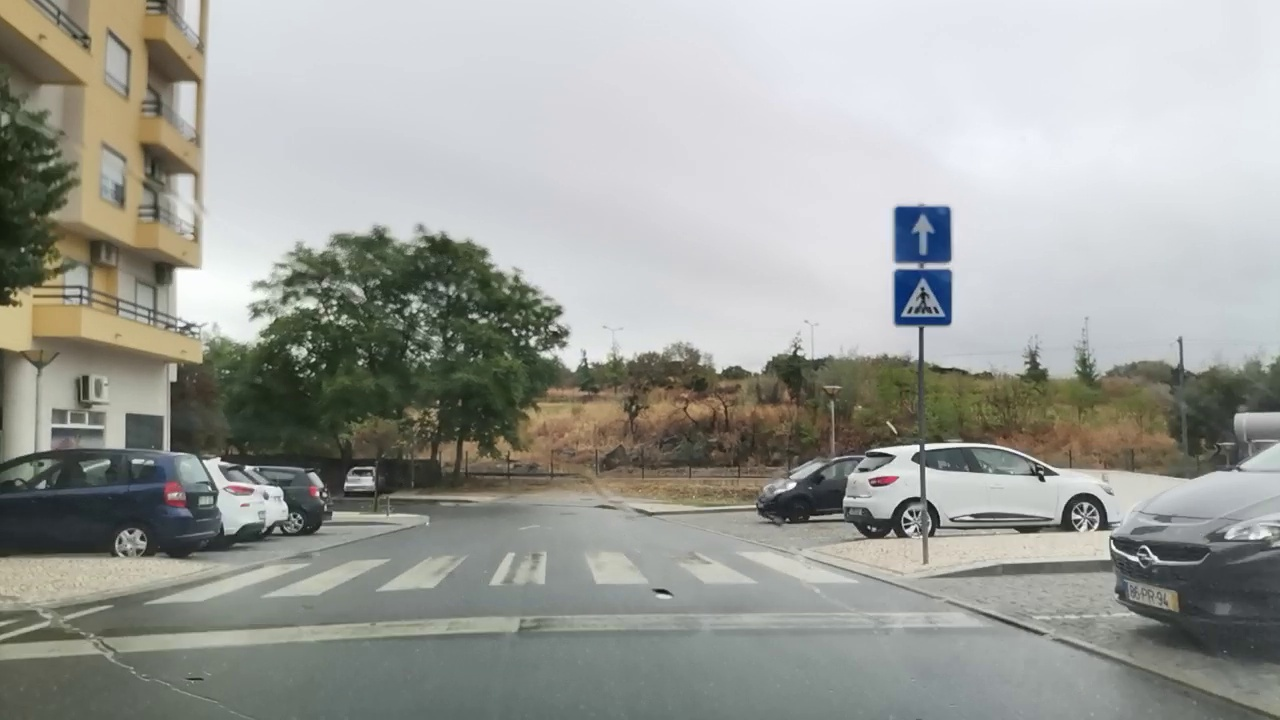Stairs: (149, 549, 864, 608)
